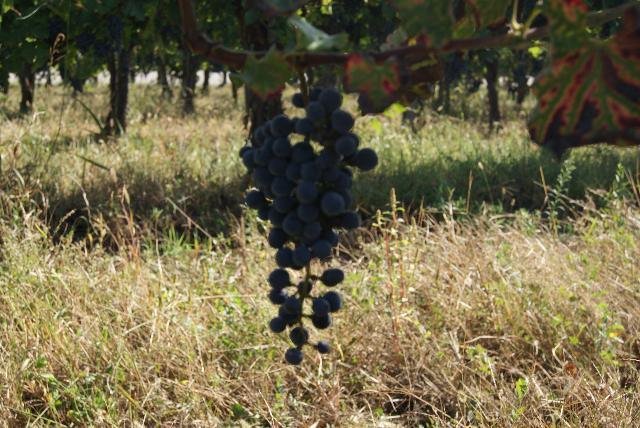grapes: (240, 86, 378, 365)
